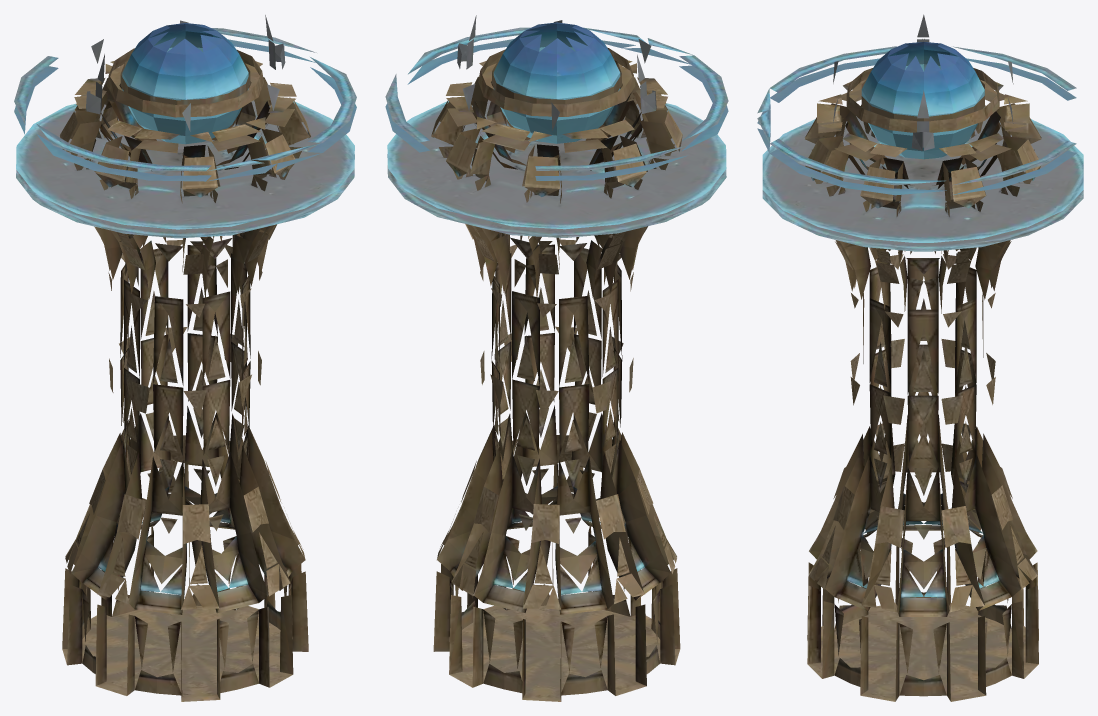
File: alien_tower_LOD2.glb
The picture shows the model from 3 angles, left to right: view 1: azimuth 30°, elevation 25°; view 2: azimuth 150°, elevation 25°; view 3: azimuth 270°, elevation 25°; orthographic projection. The views are drawn at different scales.
Parts seen in each view (by area): view 1: alien_tower_LOD2; view 2: alien_tower_LOD2; view 3: alien_tower_LOD2.
Boxes of the visible parts, left/top/right/bottom form: alien_tower_LOD2: left=14, top=15, right=356, bottom=701; alien_tower_LOD2: left=385, top=15, right=728, bottom=701; alien_tower_LOD2: left=757, top=14, right=1083, bottom=701.
Bounding box in the file's own units: 0.4834 × 0.9608 × 0.4716.
Materials: 1 (1 with a texture image).
